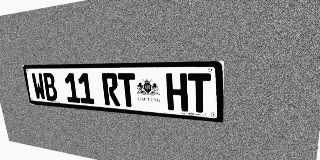1: (77, 73, 95, 104), (63, 73, 81, 103)
B: (42, 73, 58, 101)
H: (166, 73, 188, 112)
R: (101, 73, 120, 106)
T: (188, 73, 211, 113), (117, 73, 137, 108)
W: (31, 73, 47, 100)
